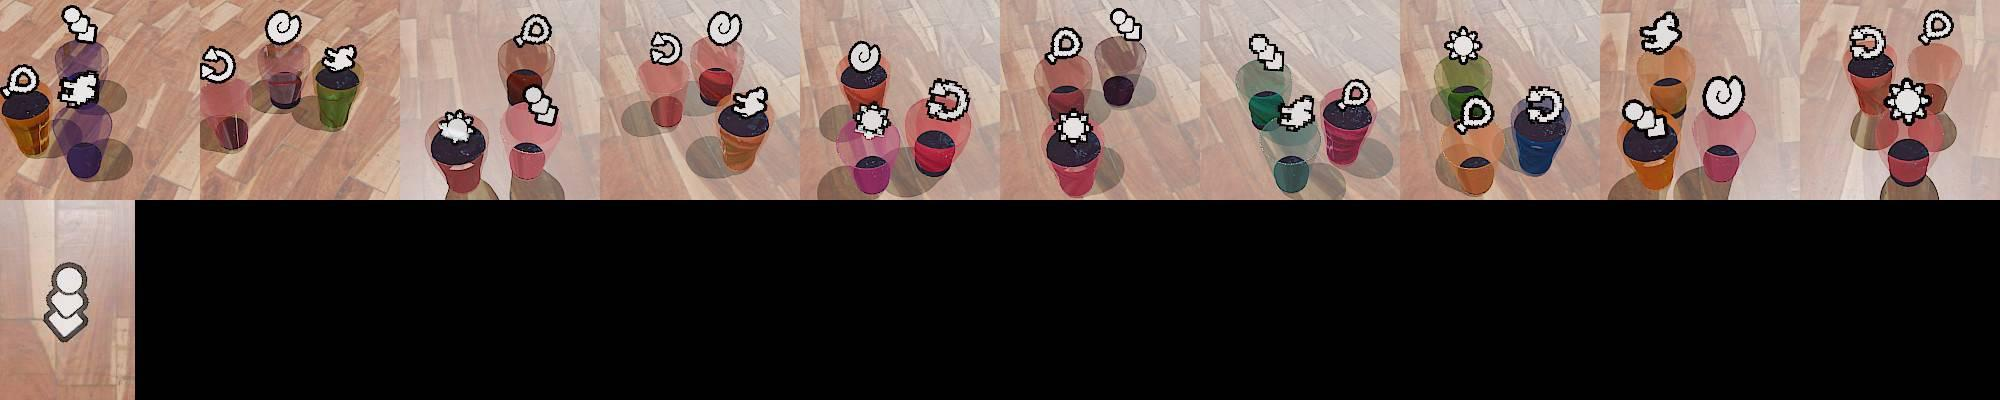icon: (40, 260, 91, 341), (1883, 76, 1934, 124), (1620, 94, 1673, 139), (925, 75, 971, 122), (1702, 73, 1746, 120), (1638, 10, 1682, 56), (1454, 93, 1495, 134), (1523, 83, 1565, 122), (57, 69, 99, 107), (1052, 107, 1096, 144), (523, 84, 560, 126), (199, 45, 236, 87), (1046, 25, 1085, 64), (1277, 93, 1316, 131), (1444, 24, 1482, 64), (852, 99, 892, 138), (264, 9, 304, 47), (435, 108, 477, 144), (1847, 24, 1886, 61), (1249, 31, 1284, 71), (1917, 9, 1955, 46), (61, 5, 98, 43), (730, 84, 769, 120), (515, 13, 552, 48), (705, 10, 742, 46), (3, 64, 41, 98), (1337, 76, 1371, 112), (648, 29, 682, 65), (1108, 6, 1143, 42), (847, 39, 881, 75), (320, 43, 357, 74)
